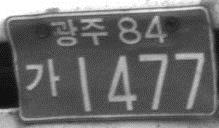1: (76, 55, 94, 113)
4: (106, 55, 138, 112), (142, 14, 167, 45)
7: (174, 51, 206, 111), (138, 52, 168, 112)
8: (117, 14, 141, 46)
가: (24, 57, 59, 96)
광주_O: (50, 17, 109, 47)
